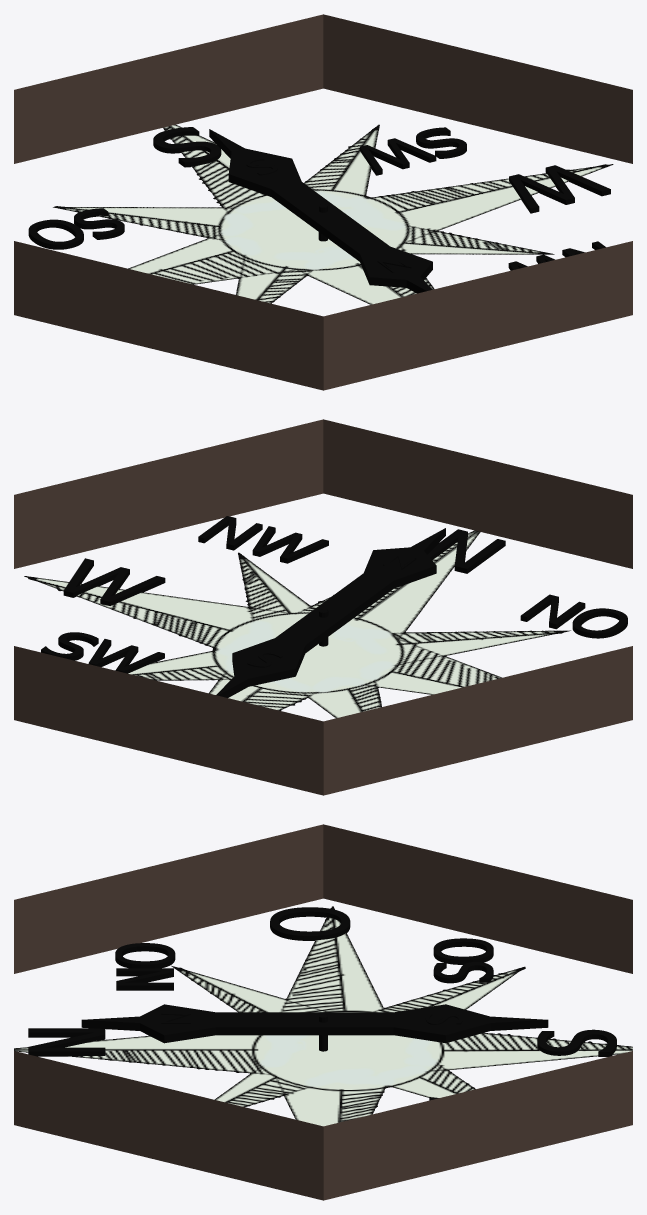
Rendered from kompass.fbx.
The picture shows the model from 3 angles, top to bottom: view 1: azimuth 30°, elevation 25°; view 2: azimuth 150°, elevation 25°; view 3: azimuth 270°, elevation 25°; orthographic projection.
Parts seen in each view (by area): view 1: Kompass, Nadel, Deckfläche_2, Beschriftung; view 2: Kompass, Nadel, Deckfläche_2, Beschriftung; view 3: Kompass, Nadel, Deckfläche_2, Beschriftung.
Boxes of the visible parts, x1,y1,x2,y2 form: Kompass: (14, 14, 632, 390); Nadel: (209, 129, 432, 293); Deckfläche_2: (28, 127, 610, 269); Beschriftung: (28, 130, 610, 270); Kompass: (14, 419, 632, 795); Nadel: (216, 528, 445, 697); Deckfläche_2: (41, 516, 627, 671); Beschriftung: (41, 520, 627, 673); Kompass: (14, 824, 632, 1200); Nadel: (81, 1004, 548, 1043); Deckfläche_2: (28, 907, 616, 1100); Beschriftung: (28, 911, 616, 1056).
Bounding box in the file's own units: 135 × 15.64 × 117.
Materials: 4 (2 with a texture image).
